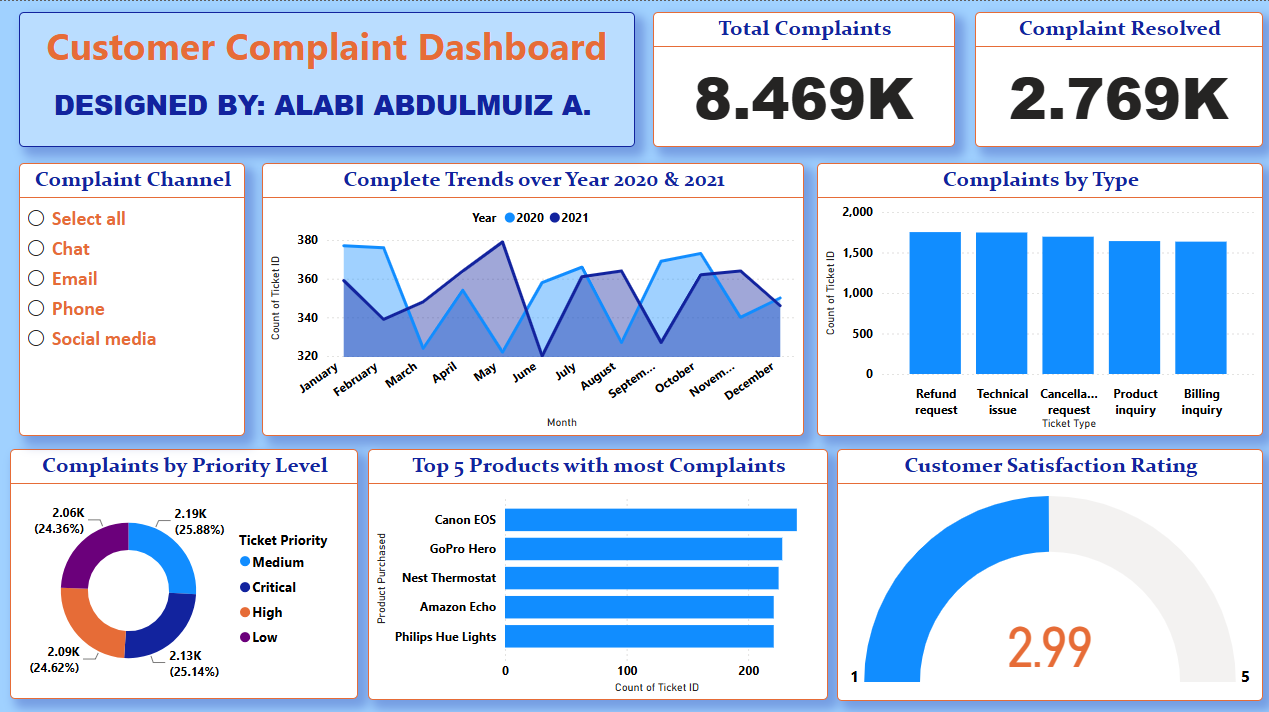

What the dashboard file says about the page in this screenshot:
{"tool":"powerbi","page":{"name":"Page 1","canvas":[1280,720],"ordinal":0},"visuals":[{"type":"cardVisual","title":"Total Complaints","fields":{"Data":["CountNonNull(6 1-CustomerSupportTickets.Ticket ID)"]},"box":[658.5,10.7,301.5,135.2],"z":0},{"type":"cardVisual","title":"Complaint Resolved","fields":{"Data":["CountNonNull(6 1-CustomerSupportTickets.Ticket ID)"]},"box":[980.4,10.7,287.9,135.2],"z":1000},{"type":"areaChart","title":"Complete Trends over Year 2020 & 2021","fields":{"Y":["CountNonNull(6 1-CustomerSupportTickets.Ticket ID)"],"Category":["6 1-CustomerSupportTickets.Date of Purchase.Variation.Date Hierarchy.Month"],"Series":["6 1-CustomerSupportTickets.Date of Purchase.Variation.Date Hierarchy.Year"]},"box":[266.5,162.4,542.7,272.3],"z":2000},{"type":"columnChart","title":"Complaints by Type","fields":{"Category":["6 1-CustomerSupportTickets.Ticket Type"],"Y":["CountNonNull(6 1-CustomerSupportTickets.Ticket ID)"]},"box":[821.9,162.4,446.4,272.3],"z":3000},{"type":"donutChart","title":"Complaints by Priority Level","fields":{"Category":["6 1-CustomerSupportTickets.Ticket Priority"],"Y":["CountNonNull(6 1-CustomerSupportTickets.Ticket ID)"]},"box":[14.6,448.4,348.2,250],"z":4000},{"type":"barChart","title":"Top 5 Products with most Complaints","fields":{"Category":["6 1-CustomerSupportTickets.Product Purchased"],"Y":["CountNonNull(6 1-CustomerSupportTickets.Ticket ID)"]},"box":[372.5,448.4,460.1,250.9],"z":5000},{"type":"gauge","title":"Customer Satisfaction Rating","fields":{"Y":["Avg(6 1-CustomerSupportTickets.Customer Satisfaction Rating)"],"MinValue":["Min(6 1-CustomerSupportTickets.Customer Satisfaction Rating)1"],"MaxValue":["Max(6 1-CustomerSupportTickets.Customer Satisfaction Rating)2"]},"box":[842.3,448.4,426,251.9],"z":6000},{"type":"textbox","box":[24.3,10.7,615.7,135.2],"z":7000},{"type":"listSlicer","title":"Complaint Channel","fields":{"Values":["6 1-CustomerSupportTickets.Ticket Channel"]},"box":[24.3,162.4,225.7,272.3],"z":8000}]}

Visuals, with their boxes in screenshot pixels (x1, y1, x2, y2), scaled from the page's 1280x720 canvas onto the 1269x712 screenshot:
"Total Complaints" cardVisual: x1=653, y1=11, x2=952, y2=144
"Complaint Resolved" cardVisual: x1=972, y1=11, x2=1257, y2=144
"Complete Trends over Year 2020 & 2021" areaChart: x1=264, y1=161, x2=802, y2=430
"Complaints by Type" columnChart: x1=815, y1=161, x2=1257, y2=430
"Complaints by Priority Level" donutChart: x1=14, y1=443, x2=360, y2=691
"Top 5 Products with most Complaints" barChart: x1=369, y1=443, x2=825, y2=692
"Customer Satisfaction Rating" gauge: x1=835, y1=443, x2=1257, y2=693
textbox: x1=24, y1=11, x2=634, y2=144
"Complaint Channel" listSlicer: x1=24, y1=161, x2=248, y2=430
